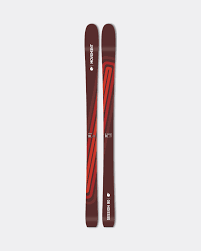skis: (82, 23, 119, 227)
